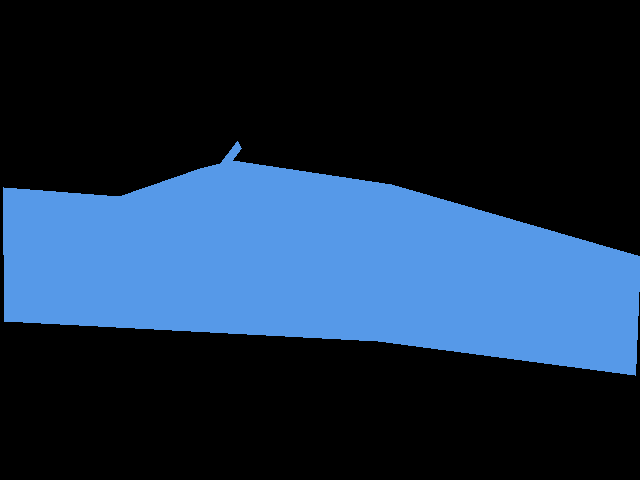Airplane: (3, 141, 640, 376)
